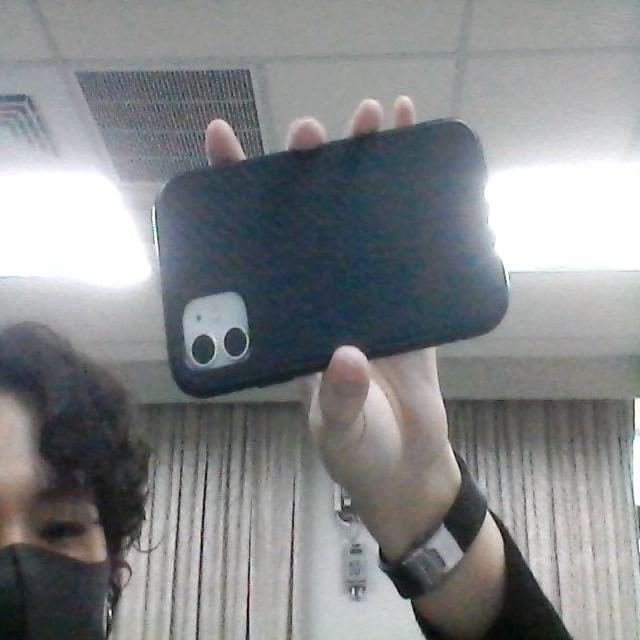phone: (149, 110, 516, 400)
